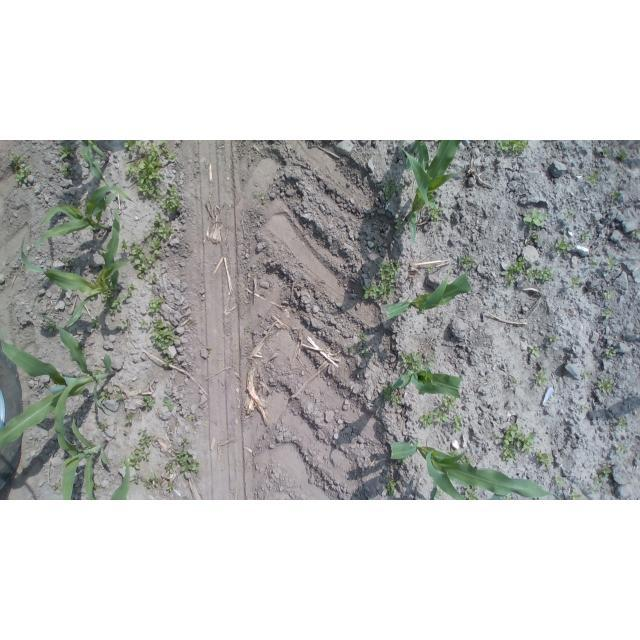Maize: (1, 315, 116, 449), (21, 209, 136, 327), (389, 436, 563, 501), (20, 183, 136, 269), (397, 140, 469, 242), (54, 376, 111, 500), (384, 271, 474, 320), (81, 140, 136, 204), (392, 365, 464, 400), (406, 140, 431, 192), (105, 457, 131, 500)
Weeds: (124, 141, 169, 204), (501, 423, 534, 461), (128, 242, 156, 279), (151, 319, 180, 354), (500, 257, 526, 286), (9, 153, 31, 186), (363, 282, 396, 303), (161, 185, 184, 214), (176, 450, 201, 475), (152, 212, 173, 241), (378, 259, 401, 284), (419, 410, 449, 429), (127, 446, 150, 470), (526, 264, 555, 283), (496, 140, 530, 156), (521, 208, 547, 228), (402, 352, 423, 373), (102, 292, 123, 312), (381, 384, 402, 404), (384, 179, 403, 200), (535, 449, 553, 467), (138, 429, 155, 447), (141, 472, 159, 489), (555, 237, 571, 255), (428, 205, 443, 224), (597, 377, 614, 393), (148, 295, 163, 313), (460, 255, 477, 270), (442, 394, 457, 411), (586, 169, 600, 187), (149, 237, 162, 255), (142, 395, 157, 410), (464, 484, 478, 500), (536, 368, 549, 385), (450, 415, 462, 433), (384, 478, 396, 496), (59, 144, 73, 159), (96, 388, 110, 402), (124, 284, 135, 301), (615, 417, 628, 430), (528, 344, 541, 357), (59, 163, 73, 175), (163, 397, 174, 412), (457, 454, 472, 464), (47, 322, 57, 336), (607, 255, 617, 269), (165, 459, 174, 474), (75, 341, 85, 354), (445, 448, 459, 457), (164, 354, 174, 366), (395, 218, 405, 230), (253, 192, 266, 201), (605, 349, 618, 358), (359, 348, 372, 357), (114, 387, 122, 401), (90, 317, 100, 328), (601, 467, 612, 477), (357, 333, 367, 344), (61, 258, 73, 267), (125, 413, 134, 425), (570, 491, 582, 500), (616, 444, 628, 453), (603, 291, 615, 300), (120, 319, 130, 329), (602, 309, 612, 319), (166, 152, 177, 161), (427, 355, 436, 366), (148, 274, 158, 283), (119, 241, 128, 251), (617, 151, 627, 160), (570, 277, 580, 286), (581, 230, 590, 240), (82, 441, 94, 448), (167, 483, 176, 492), (531, 233, 539, 243), (143, 233, 149, 246), (140, 319, 148, 328), (631, 230, 640, 238), (438, 316, 446, 325), (435, 490, 443, 499), (556, 476, 564, 485), (428, 264, 435, 274), (567, 210, 574, 220), (581, 405, 589, 413), (602, 148, 610, 156), (549, 335, 557, 343), (505, 492, 513, 500), (596, 475, 603, 484), (491, 434, 500, 441), (97, 155, 105, 162), (182, 437, 189, 445), (612, 191, 619, 199), (347, 344, 354, 352), (584, 371, 591, 378), (244, 326, 250, 334), (93, 483, 101, 489), (510, 380, 517, 386), (73, 201, 79, 208), (120, 458, 125, 466), (134, 474, 139, 482), (100, 422, 105, 430), (590, 262, 598, 267), (398, 458, 406, 463), (94, 370, 101, 375), (102, 249, 107, 255), (487, 140, 492, 146), (187, 414, 193, 419), (54, 486, 58, 490), (435, 140, 440, 142), (473, 239, 476, 242)
